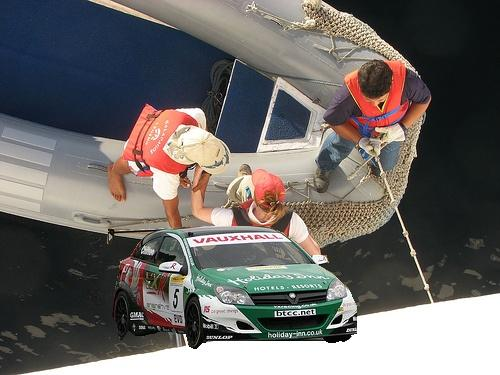tampered: (108, 227, 357, 349)
